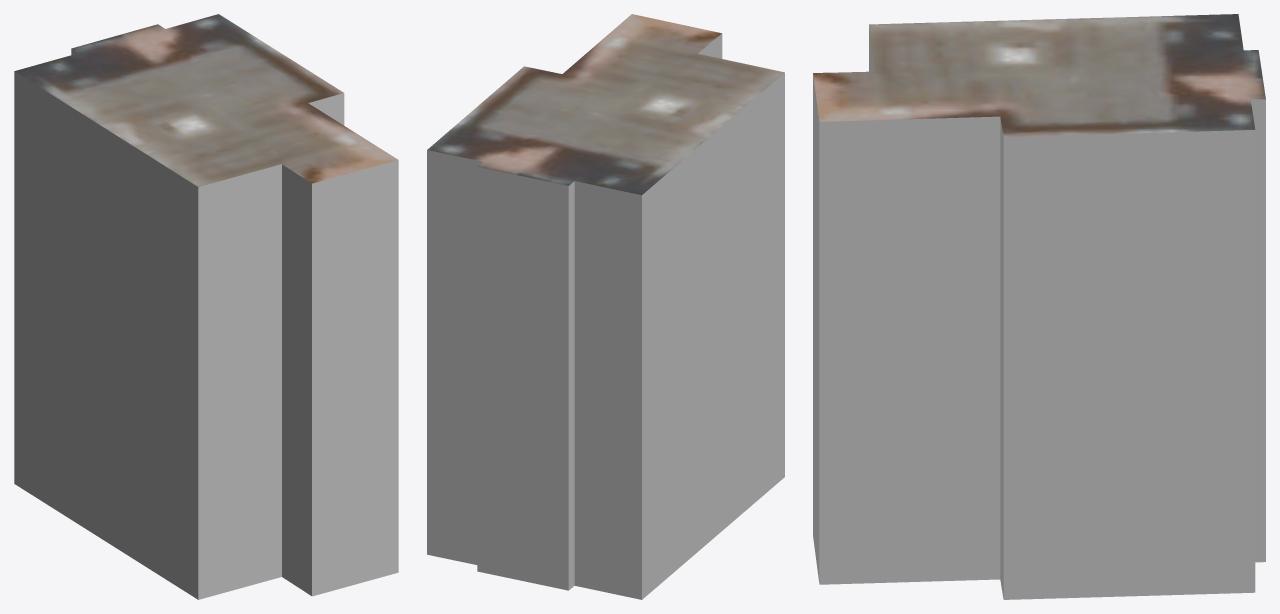
File: DEBW_0010007Tx9b.gltf
3 renders of one model, left to right at view 1: azimuth 30°, elevation 25°; view 2: azimuth 150°, elevation 25°; view 3: azimuth 270°, elevation 25°, orthographic. The views are drawn at different scales.
Visible parts, largest first — view 1: Z_UP; view 2: Z_UP; view 3: Z_UP.
Boxes of the visible parts, x1,y1,x2,y2 form: Z_UP: (14,14,398,599); Z_UP: (427,14,784,599); Z_UP: (813,14,1265,599).
Bounding box in the file's own units: 9.55 × 16.75 × 14.85.
Materials: 2 (1 with a texture image).
